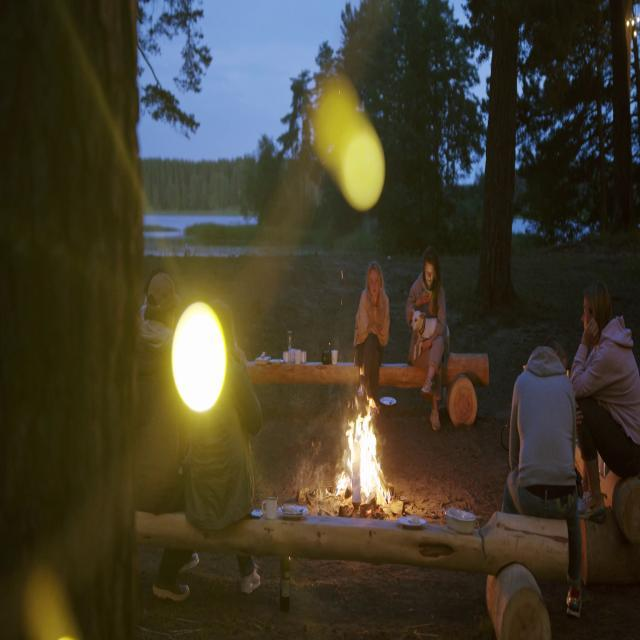Fire: (337, 386, 391, 514)
